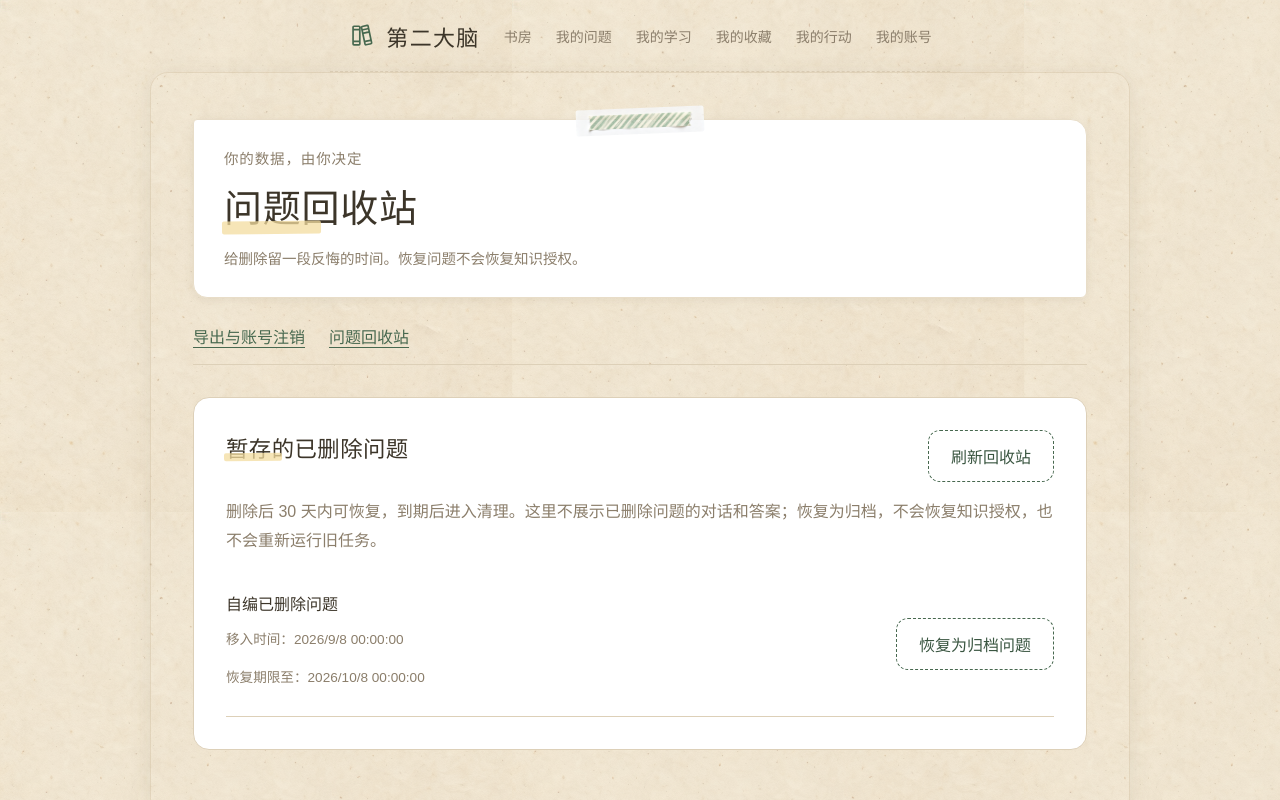
Test: 回收站恢复带修订号，恢复到归档并不承诺恢复知识权限
This screenshot has width=1280, height=800.
Expected: the heading "问题回收站" is shown, [224,188,418,230]
Expected: the text "自编已删除问题" is shown, [226,596,338,613]
Click the button "恢复为归档问题": (975, 644) [896,618,1054,670]
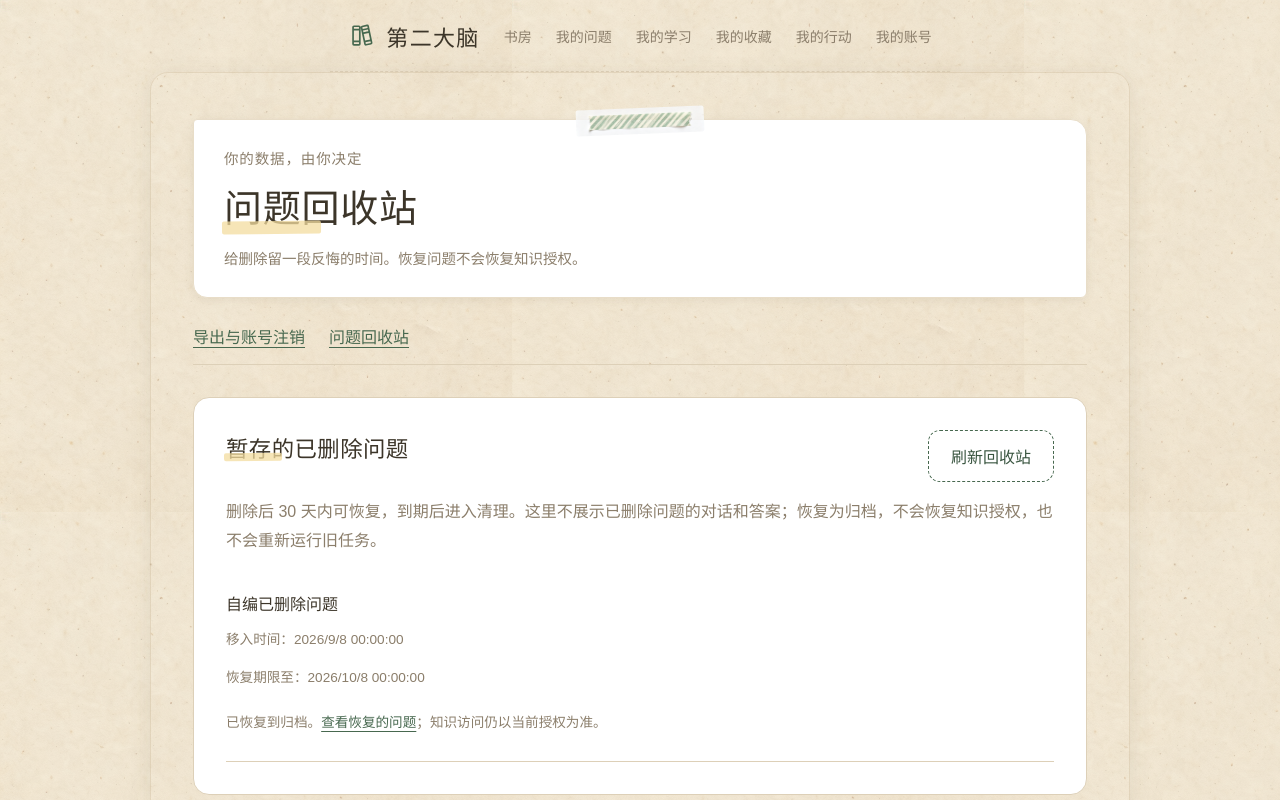
Result: the text "已恢复到归档。 查看恢复的问题 ；知识访问仍以当前授权为准。" is shown at [226,715,607,730]
